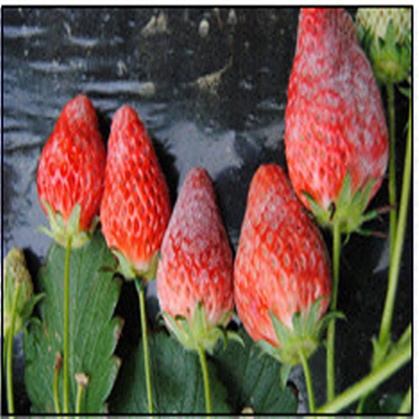Powdery_Fruit: (235, 59, 333, 358), (284, 190, 389, 410), (153, 73, 236, 342)
